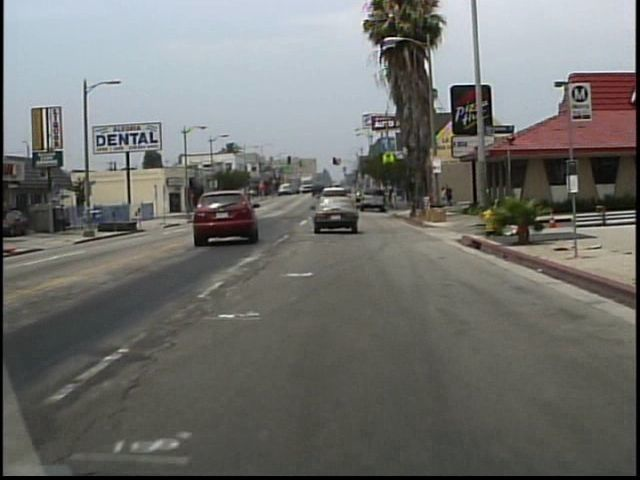person: (446, 183, 454, 207), (440, 185, 448, 208)
